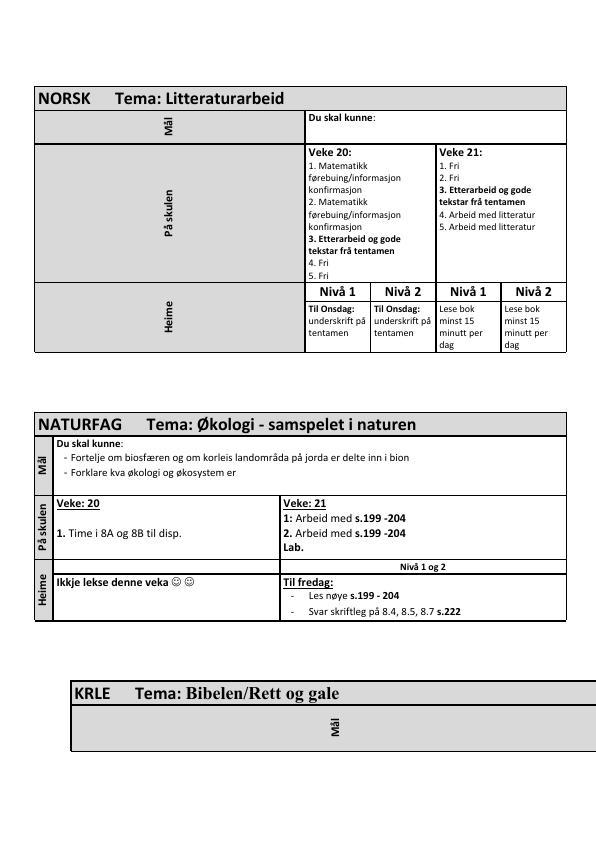table: (31, 83, 568, 355), (31, 410, 571, 625), (68, 678, 595, 754)
